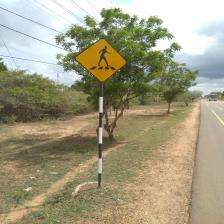yellowboard: (74, 38, 127, 82)
